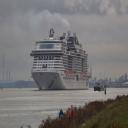cruises: (29, 28, 93, 93)
